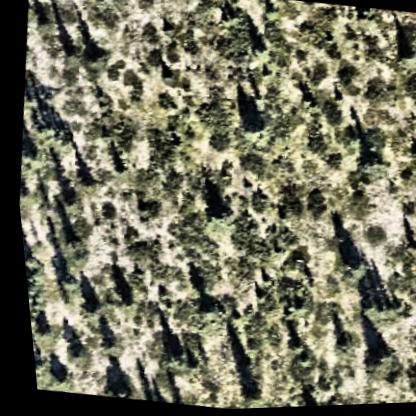tree-top: (350, 338, 397, 385), (355, 294, 395, 327), (235, 111, 272, 146), (182, 292, 218, 325), (333, 252, 366, 284), (50, 227, 84, 258), (198, 200, 229, 232), (51, 187, 83, 218), (36, 113, 69, 143), (38, 364, 70, 393), (79, 42, 109, 71), (322, 332, 352, 361), (154, 340, 184, 369), (353, 152, 384, 180), (228, 383, 260, 410), (94, 375, 128, 400), (57, 337, 85, 365), (71, 294, 100, 321), (71, 167, 100, 193), (24, 318, 52, 344), (89, 329, 116, 355), (56, 42, 83, 68), (16, 139, 40, 167), (391, 46, 416, 72), (110, 288, 135, 313), (31, 11, 57, 35), (49, 272, 74, 296), (19, 251, 38, 279), (14, 185, 34, 208), (27, 352, 44, 379), (251, 41, 271, 61), (105, 160, 126, 179), (86, 0, 119, 5), (293, 404, 314, 408)
